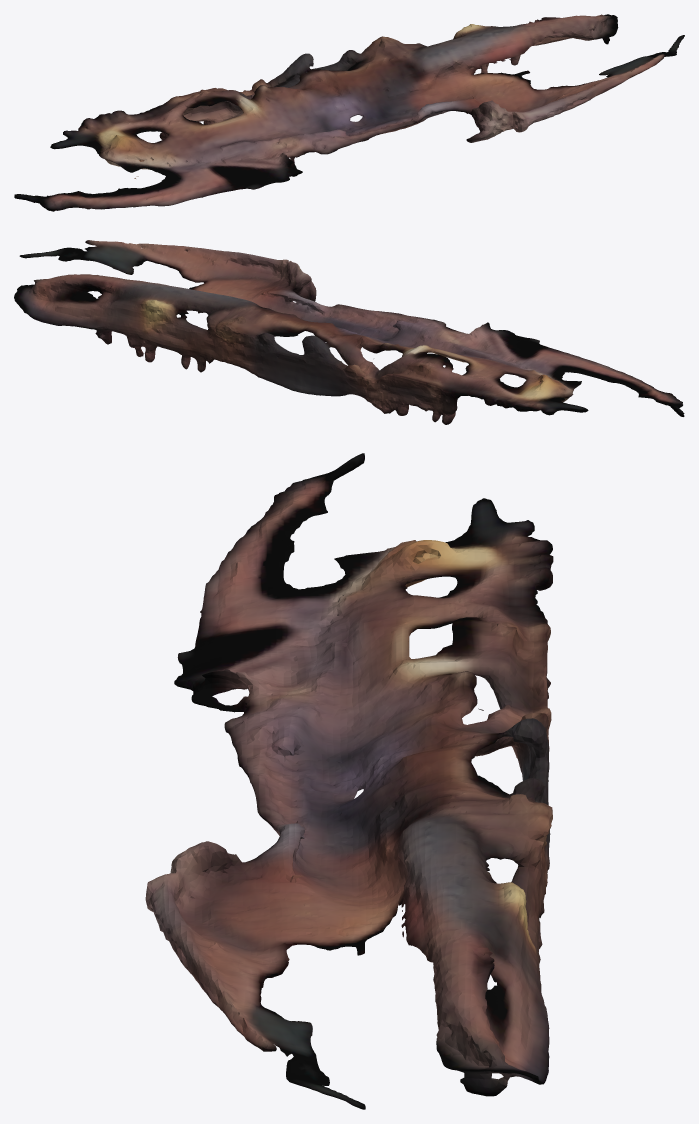
File: card-conditioned-source.glb
3 renders of one model, top to bottom at view 1: azimuth 30°, elevation 25°; view 2: azimuth 150°, elevation 25°; view 3: azimuth 270°, elevation 25°, orthographic. The views are drawn at different scales.
Visible parts, largest first — view 1: geometry_0; view 2: geometry_0; view 3: geometry_0.
Boxes of the visible parts, x1=… form: geometry_0: x1=14, y1=14, x2=684, y2=211; geometry_0: x1=14, y1=240, x2=684, y2=424; geometry_0: x1=145, y1=453, x2=553, y2=1109.
Bounding box in the file's own units: 0.9999 × 0.0948 × 0.2657.
